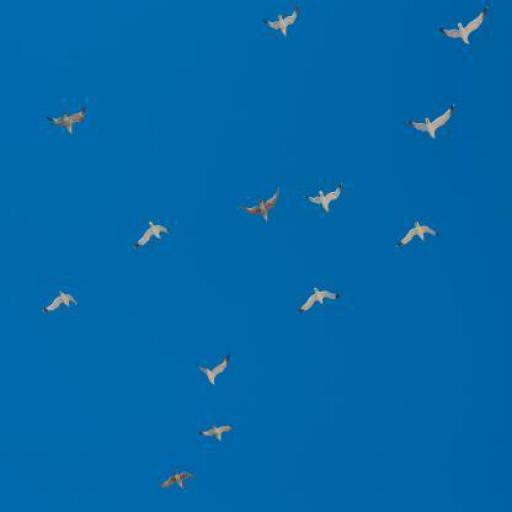bird: (440, 6, 488, 47), (408, 104, 456, 142), (240, 188, 279, 226), (396, 220, 441, 249), (263, 5, 299, 41), (304, 182, 342, 214), (195, 352, 230, 386), (298, 287, 341, 314), (135, 222, 171, 254), (45, 108, 85, 136), (43, 289, 80, 314), (159, 469, 194, 490), (198, 422, 232, 443)
